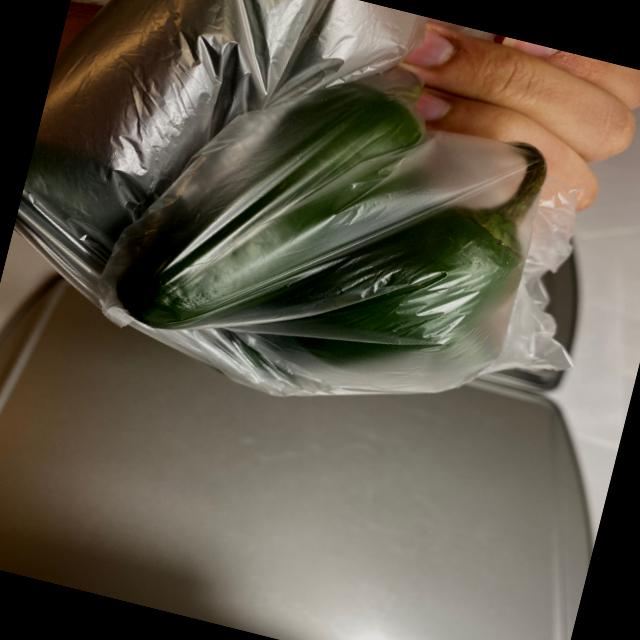chilli: (1, 0, 640, 449)
